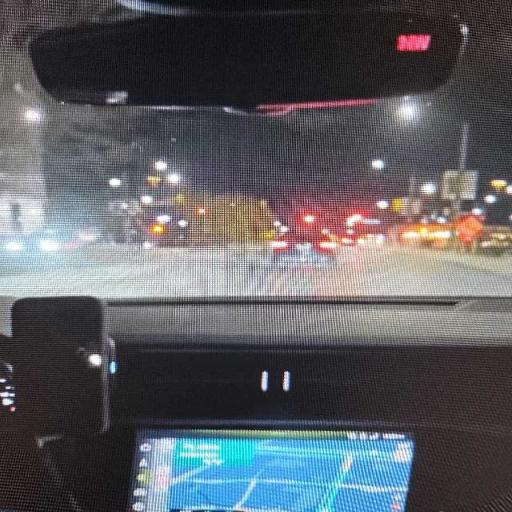car: (0, 0, 511, 511), (269, 232, 339, 268)
lane: (0, 247, 511, 297)
